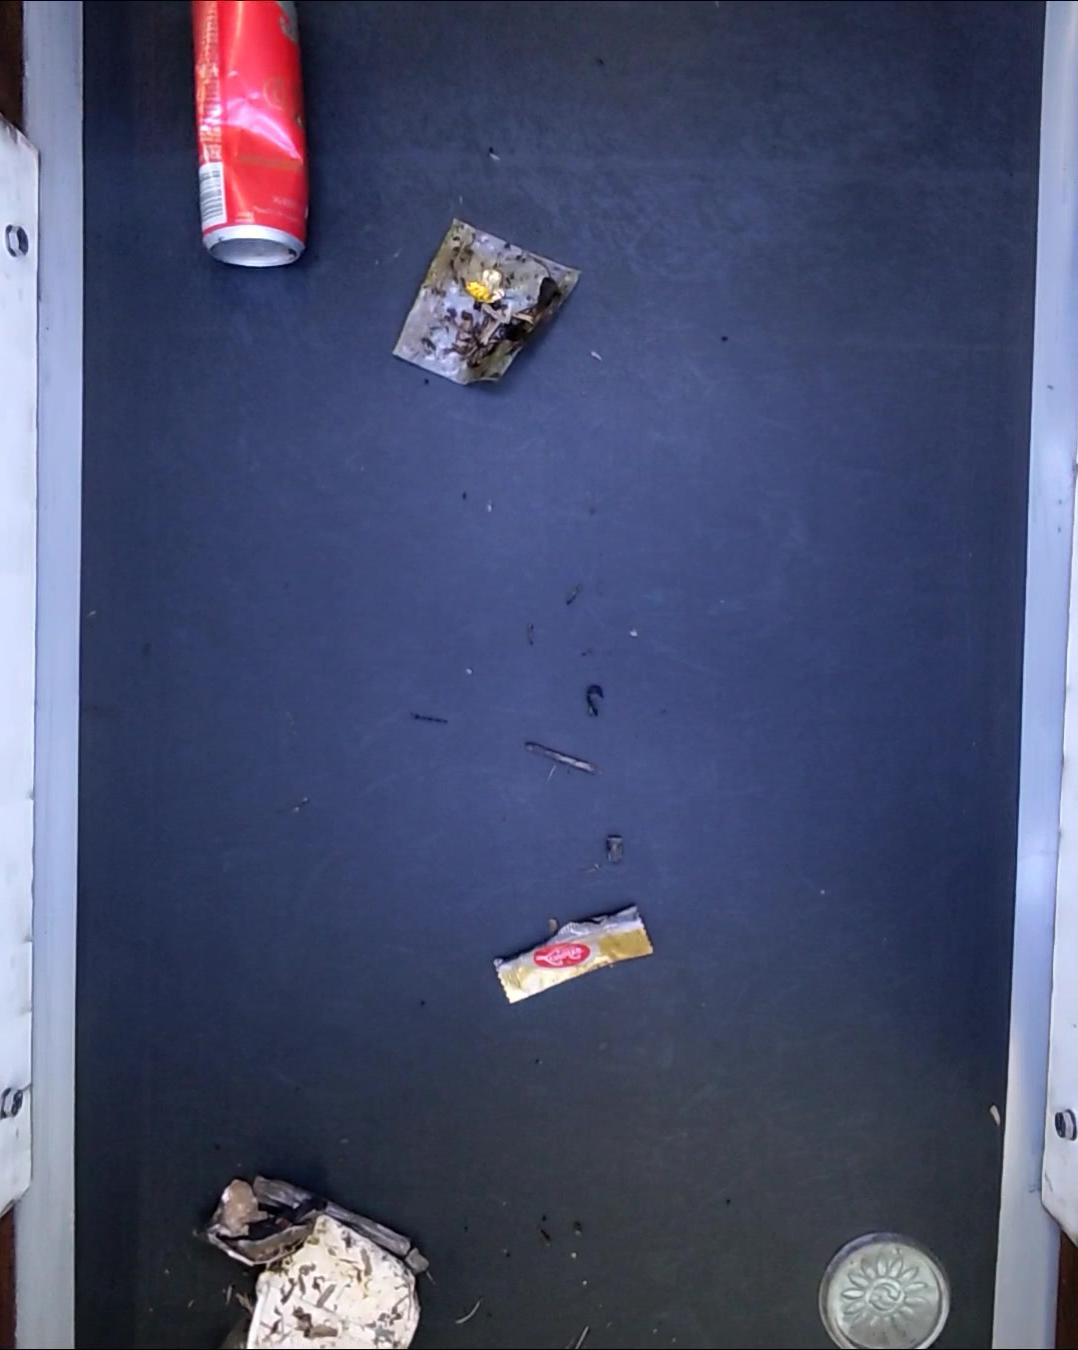Drankblikjes: (190, 0, 310, 271)
Plastic folies of stukken daarvan 2.5- 50 cm: (387, 218, 584, 387), (251, 1168, 427, 1274)
Snoep snack en chips verpakkingen: (487, 904, 658, 1005)
